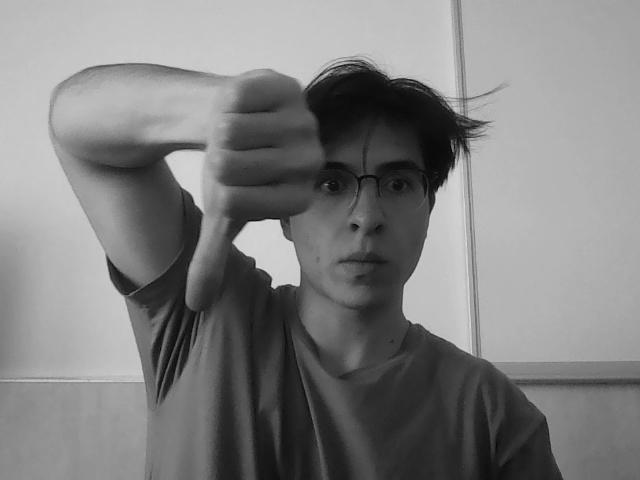bad: (183, 68, 325, 314)
